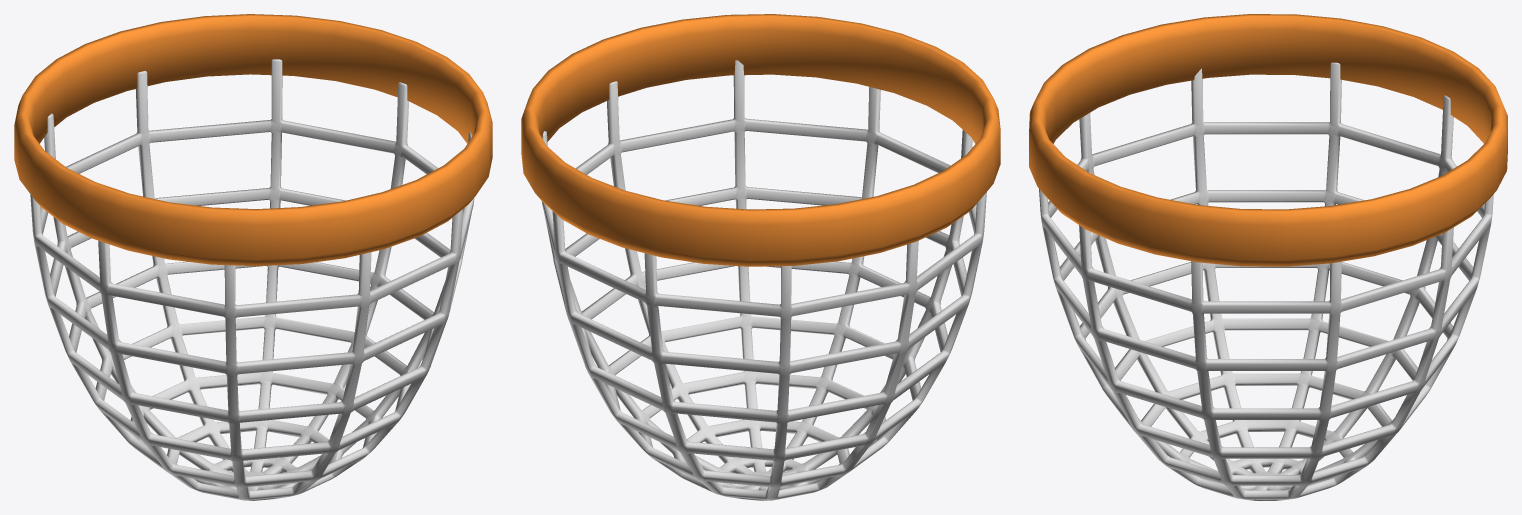
File: agturuncubeyaz.fbx
3 views of the same model, side by side, from view 1: azimuth 30°, elevation 25°; view 2: azimuth 150°, elevation 25°; view 3: azimuth 270°, elevation 25° (orthographic).
Visible parts, largest first — view 1: Sphere; view 2: Sphere; view 3: Sphere.
Part boxes in pixels (x1=…): Sphere: x1=14, y1=14, x2=492, y2=500; Sphere: x1=521, y1=14, x2=1000, y2=500; Sphere: x1=1029, y1=14, x2=1507, y2=500.
Size of the model in its own units: 225 by 194 by 225.
